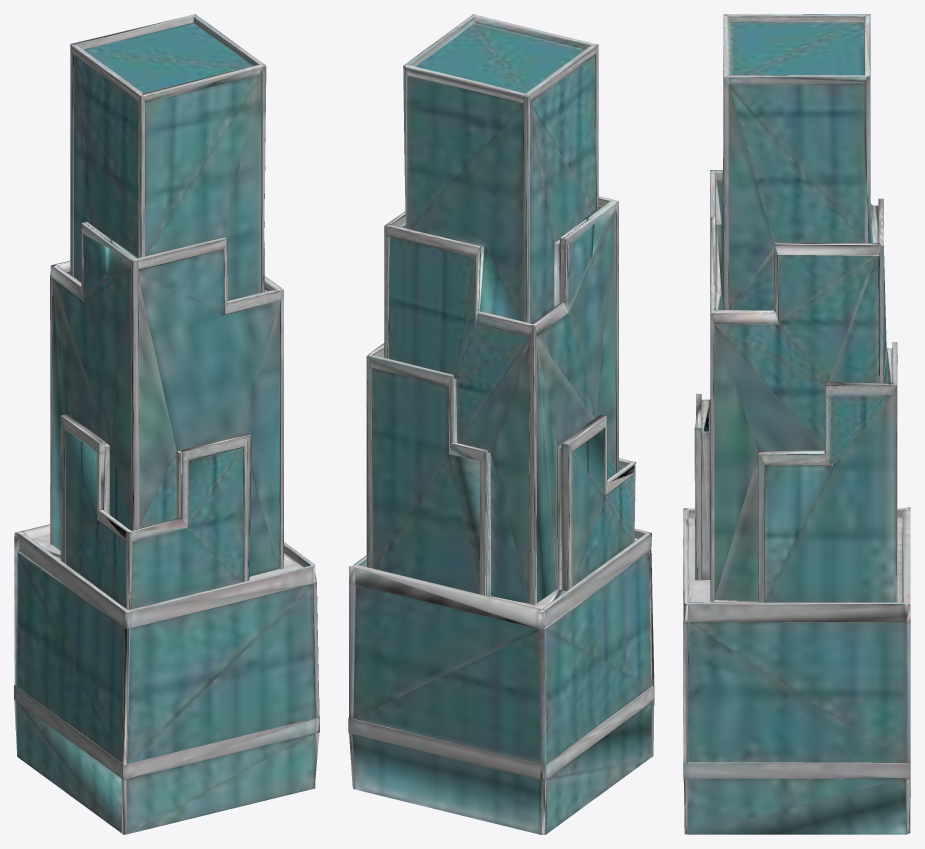
Rendered from 15-glass-skyscraper.glb.
The picture shows the model from 3 angles, left to right: view 1: azimuth 30°, elevation 25°; view 2: azimuth 150°, elevation 25°; view 3: azimuth 270°, elevation 25°; orthographic projection. The views are drawn at different scales.
Parts seen in each view (by area): view 1: geometry_0; view 2: geometry_0; view 3: geometry_0.
Part boxes in pixels (x1,y1,x2,y2): geometry_0: (14,14,319,834); geometry_0: (348,14,654,834); geometry_0: (683,14,910,834).
Bounding box in the file's own units: 0.273 × 0.9512 × 0.2642.
Materials: 1 (1 with a texture image).
